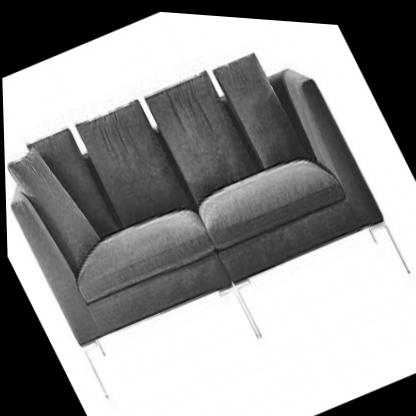Sofa: (0, 1, 416, 416)
